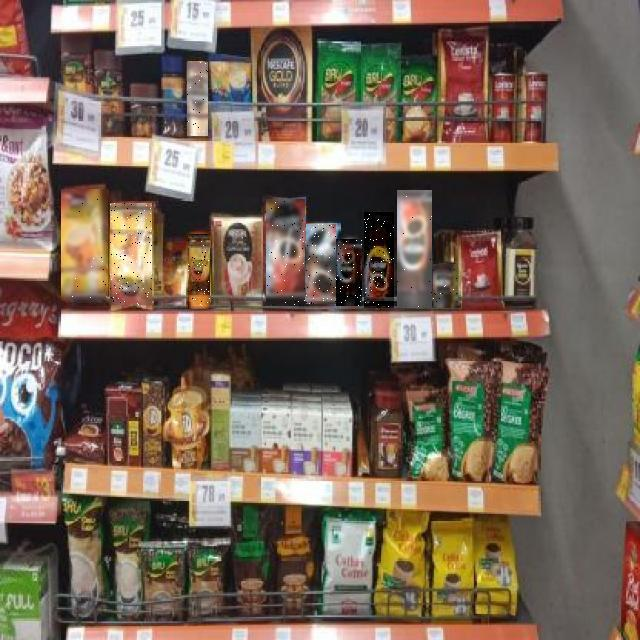Coffee: (62, 190, 108, 302), (110, 203, 152, 305), (266, 200, 305, 306), (397, 190, 432, 308), (364, 212, 394, 308), (306, 225, 336, 305), (336, 239, 362, 306), (188, 234, 210, 309), (187, 62, 208, 136), (434, 264, 458, 308)
